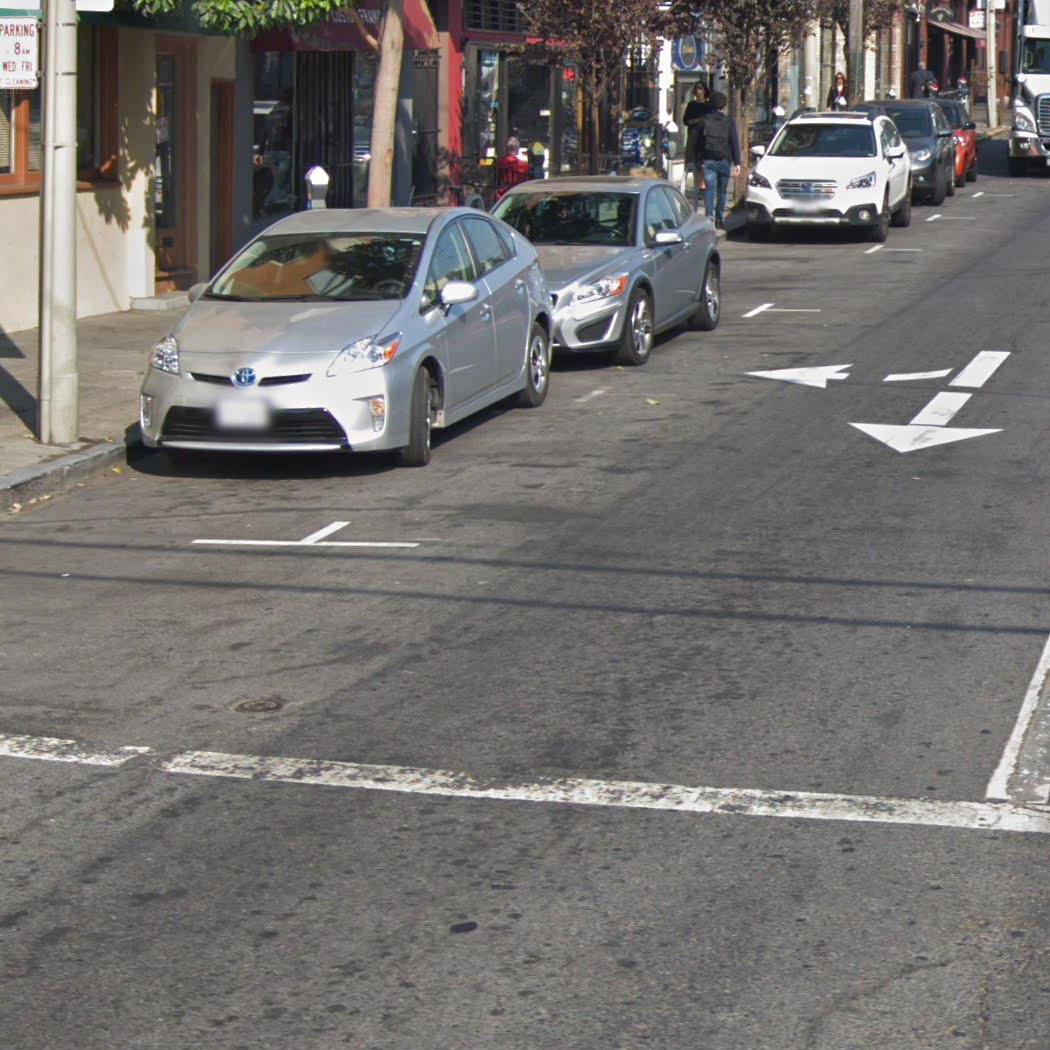No Parking: (0, 11, 43, 94)
